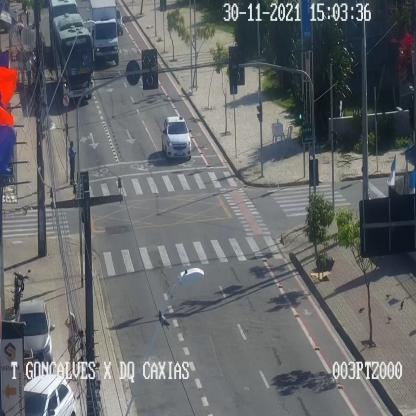bus: (52, 13, 93, 96)
car: (17, 301, 52, 372), (23, 374, 76, 415), (162, 116, 190, 157)
motorbike: (14, 272, 24, 314)
person: (68, 140, 76, 184), (26, 55, 32, 88), (31, 51, 36, 81)
truck: (89, 0, 123, 69)
